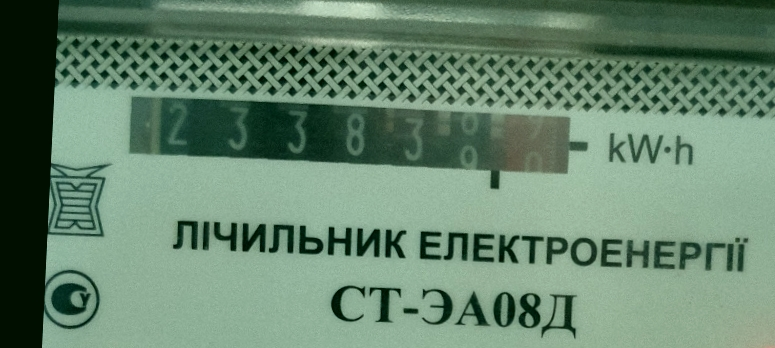0: (522, 148, 545, 175)
2: (165, 100, 191, 148)
3: (280, 106, 312, 156), (222, 102, 253, 152), (400, 115, 426, 162)
8: (340, 111, 369, 158), (457, 110, 482, 138)
9: (523, 112, 546, 143), (457, 142, 479, 172)
screen: (116, 85, 592, 197)
